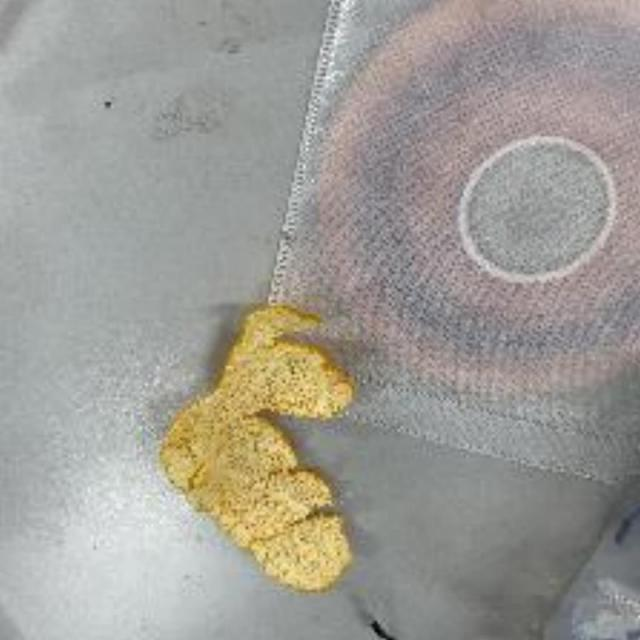orange peel: (160, 303, 359, 597)
